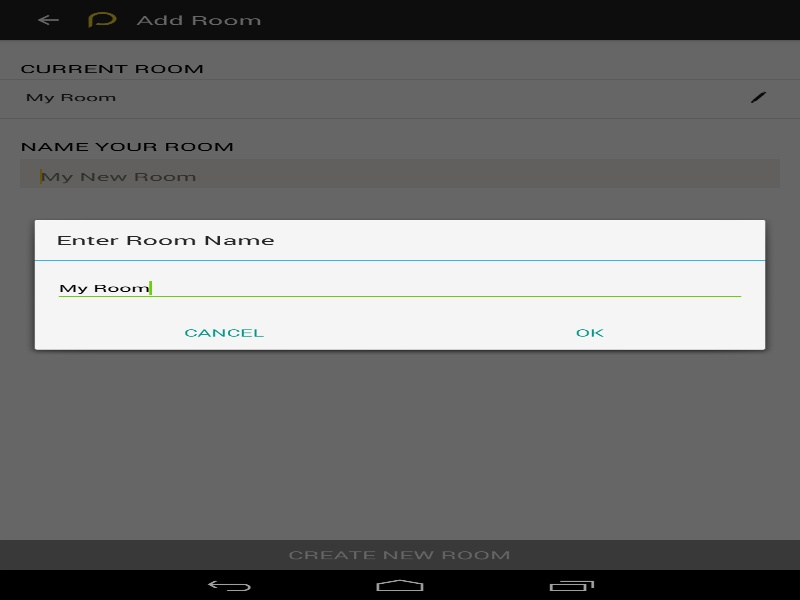Button: (34, 315, 413, 349), (413, 315, 765, 349)
Input: (53, 275, 746, 301)
